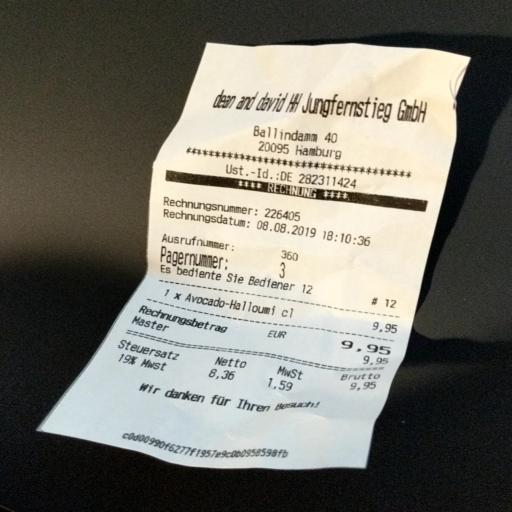paper: (15, 10, 483, 494)
